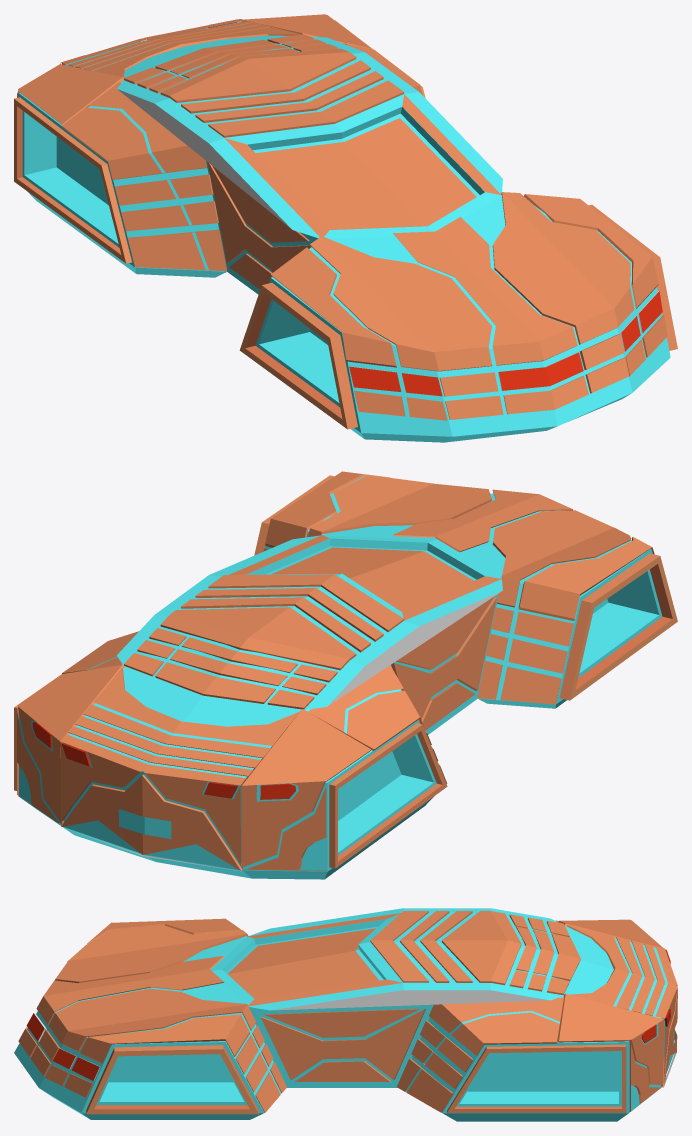
The model's file is Car.fbx.
The picture shows the model from 3 angles, top to bottom: view 1: azimuth 30°, elevation 25°; view 2: azimuth 150°, elevation 25°; view 3: azimuth 270°, elevation 25°; orthographic projection. The views are drawn at different scales.
Visible parts, largest first — view 1: Car; view 2: Car; view 3: Car.
Boxes of the visible parts, <box> form: Car: <box>14,14,677,442</box>; Car: <box>14,471,677,879</box>; Car: <box>14,908,677,1121</box>.
Size of the model in its own units: 367 by 166 by 800.
